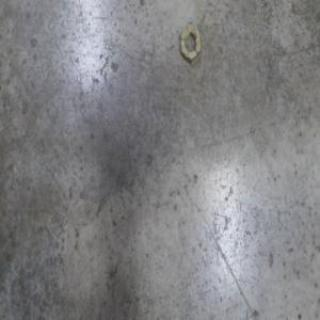Nuttrack_idkeyframe: (179, 20, 201, 63)
